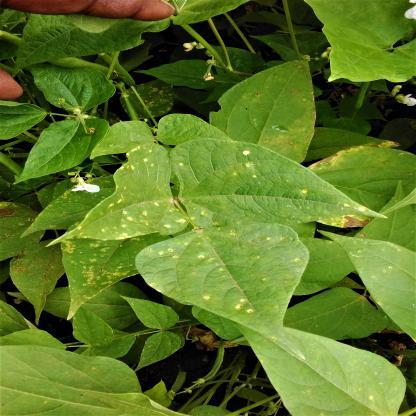Beans_Rust: (134, 221, 302, 328), (185, 138, 377, 230), (236, 319, 408, 416), (40, 148, 172, 239), (329, 226, 416, 342), (62, 236, 166, 317), (134, 332, 180, 374)
